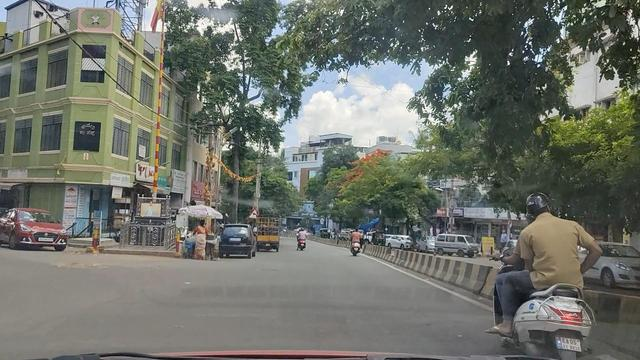LMV: (494, 200, 590, 360), (216, 223, 263, 257)
